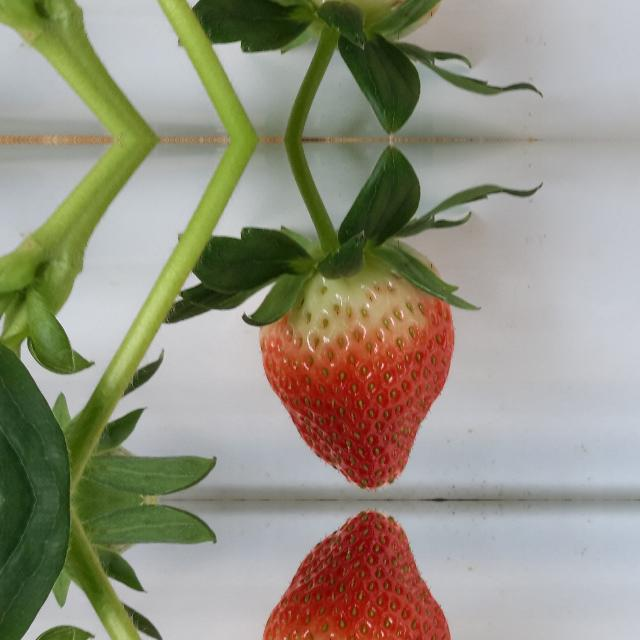Health_100: (260, 241, 454, 491), (260, 509, 454, 640)
